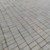others: (1, 1, 45, 47)
